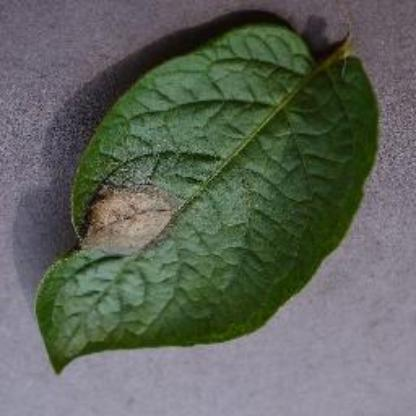Late-Blight: (31, 15, 384, 398)
